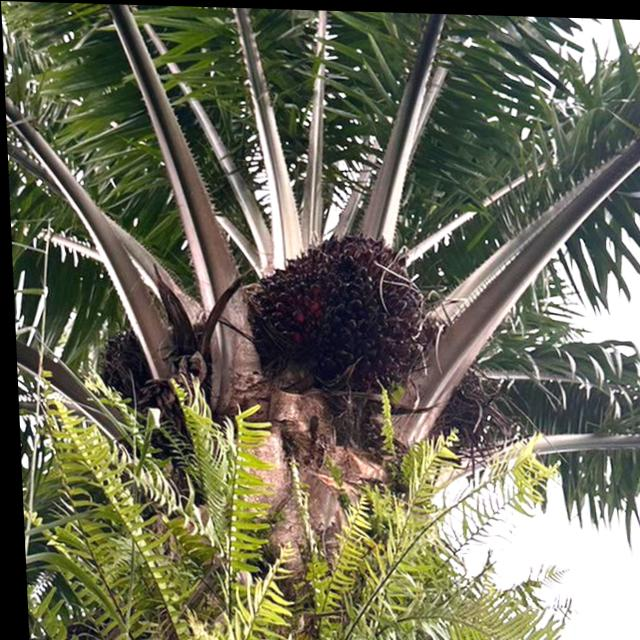ripe: (238, 221, 441, 390)
